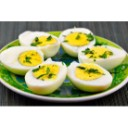begg: (27, 61, 66, 94), (71, 62, 112, 87), (61, 29, 94, 51)
